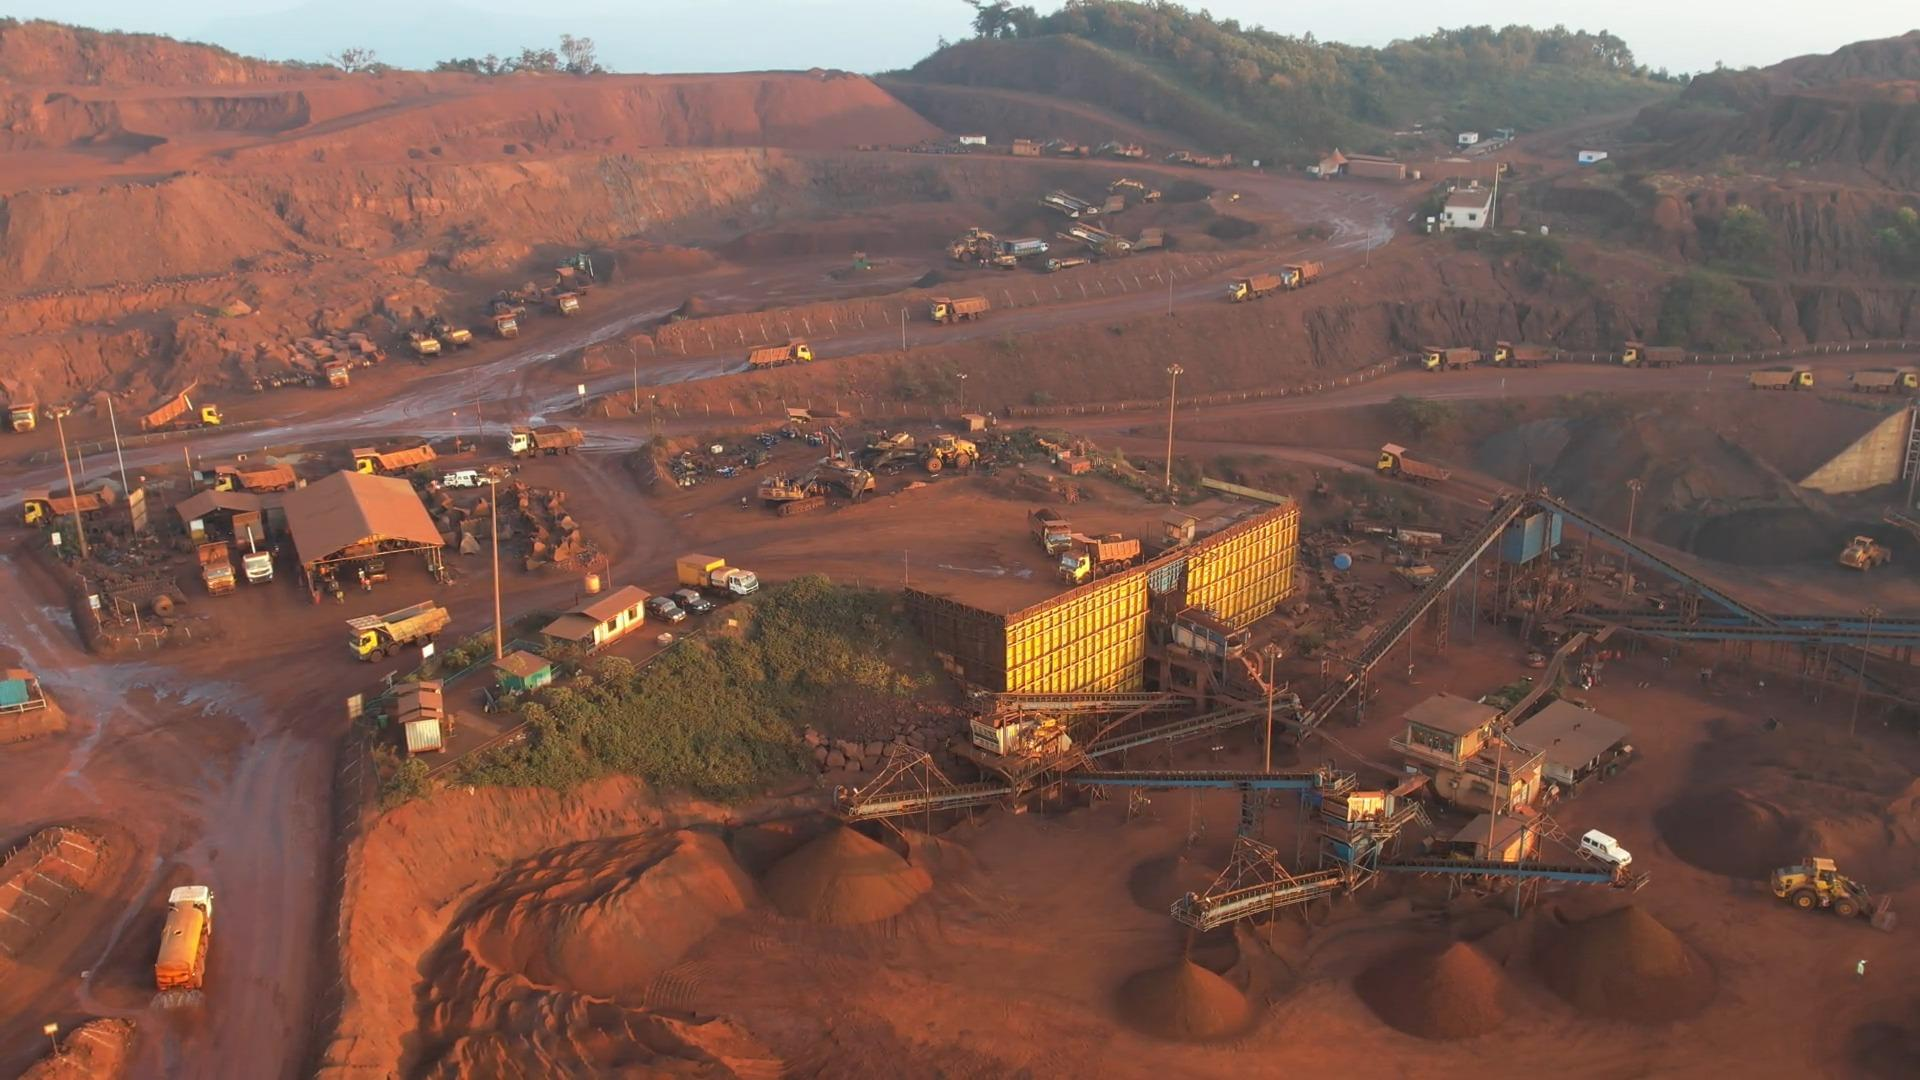excavator: (758, 473, 828, 513), (1390, 553, 1437, 585)
